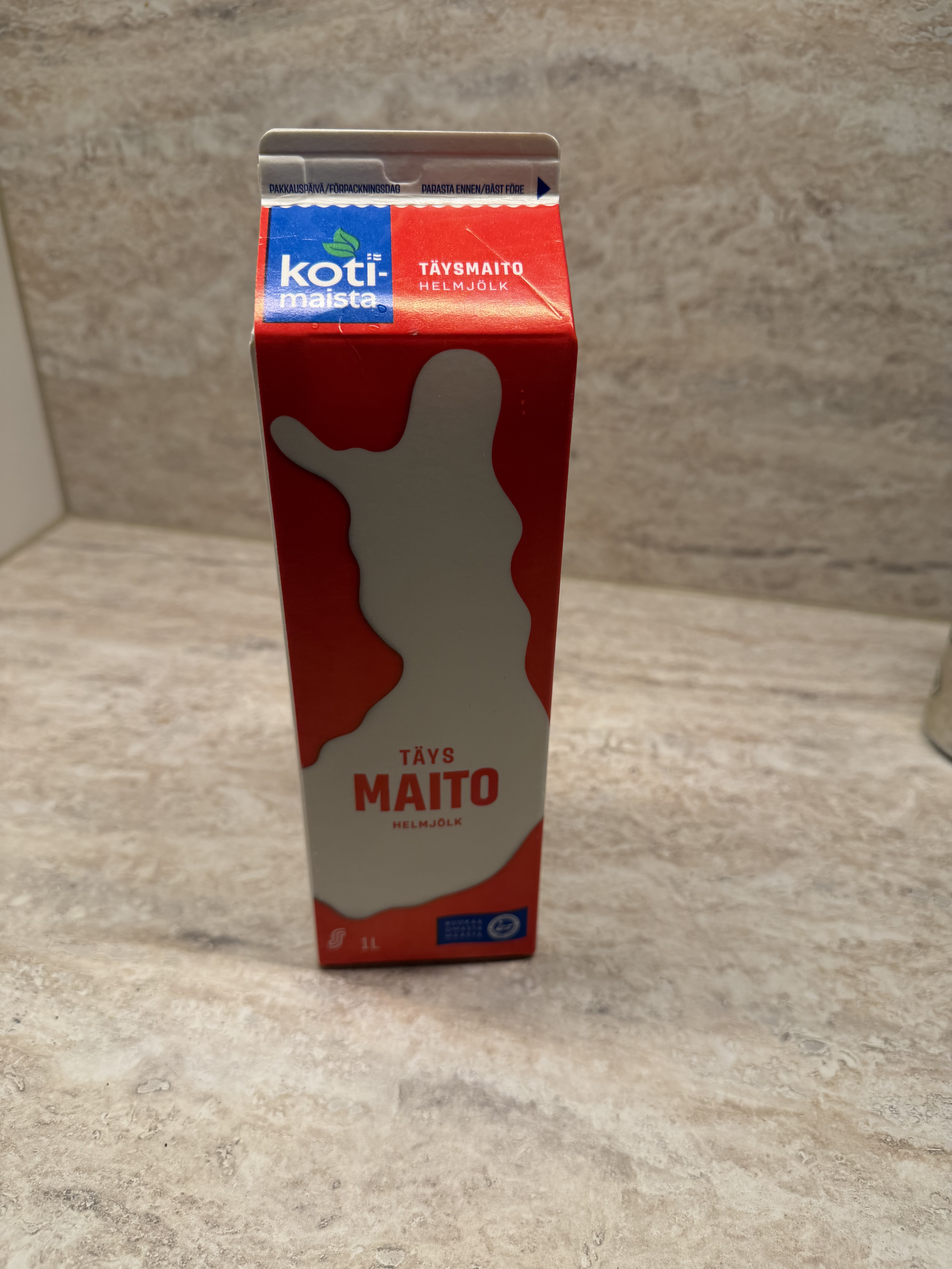Dryckeskartong: (245, 117, 587, 972)
